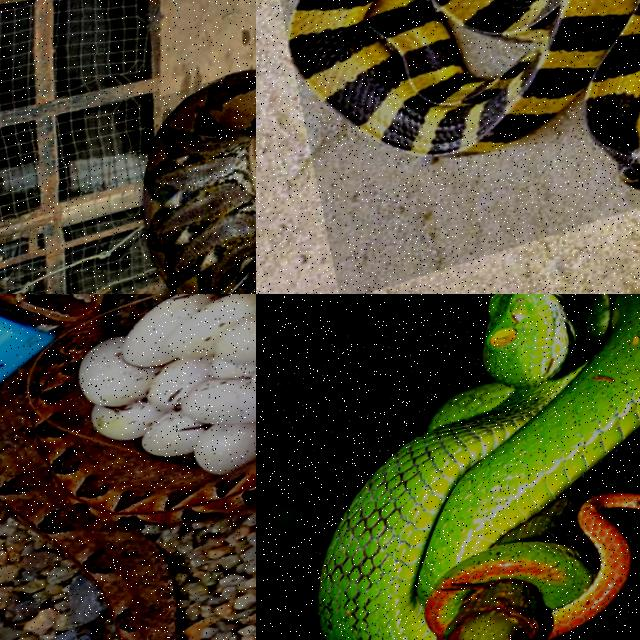Bungarus fasciatus: (288, 0, 639, 189)
Calloselasma rhodostoma: (0, 294, 255, 639)
Malayopython reticulatus: (143, 69, 255, 293)
Trimeresurus macrops: (318, 294, 639, 639)
